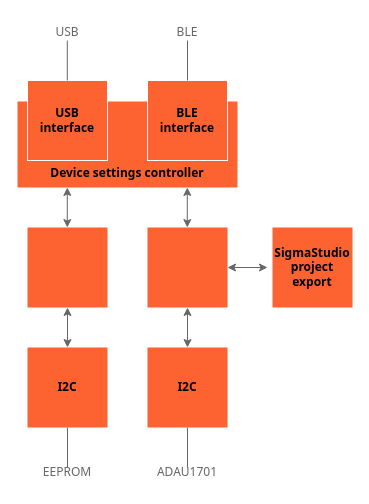
The diagram is 369 pixels wide and 504 high, and some of its shapes have lost their labels. Here are the shapes that lost their labels. From the top down, the centre of each, then its label:
At point 67,267: "EEPROM controller".
At point 187,267: "ADAU1701 DSP controller".
